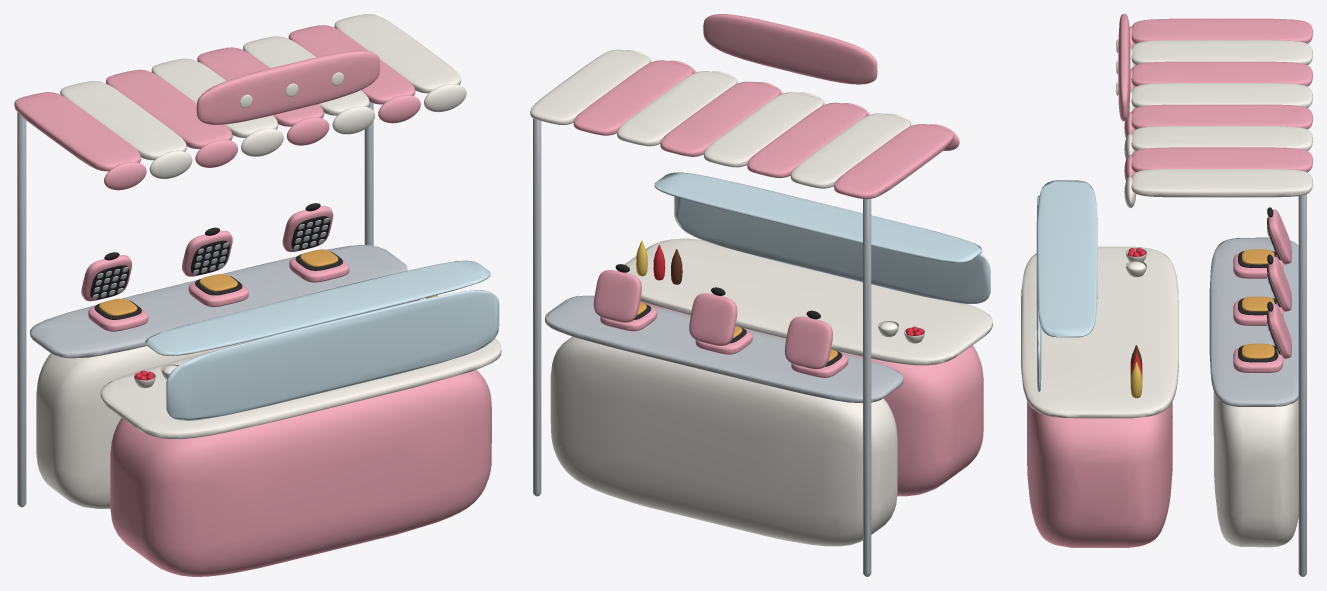
Rendered from vitrina_wafles_3.glb.
The picture shows the model from 3 angles, left to right: view 1: azimuth 30°, elevation 25°; view 2: azimuth 150°, elevation 25°; view 3: azimuth 270°, elevation 25°; orthographic projection. The views are drawn at different scales.
Visible parts, largest first — view 1: mostrador.002, vidrio frente.002, meson, tapa meson, vidrio techo.001, tapa.009, letrero.013, franja toldo.008, franja toldo.015, franja toldo.009, franja toldo.010, poste toldo (+20 smaller); view 2: meson, tapa.009, vidrio frente.002, tapa meson, mostrador.002, vidrio techo.001, letrero.013, tapa wafflera.003 (×3), franja toldo.008, franja toldo.015, franja toldo.009, franja toldo.013 (+6 smaller); view 3: tapa.009, mostrador.002, meson, tapa meson, vidrio techo.001, franja toldo.015, franja toldo.008, franja toldo.012, franja toldo.010, franja toldo.014, franja toldo.013, franja toldo.009 (+11 smaller).
Boxes of the visible parts, x1,y1,x2,y2 form: mostrador.002: [110, 370, 491, 576]; vidrio frente.002: [166, 290, 499, 420]; meson: [36, 336, 267, 508]; tapa meson: [30, 245, 407, 358]; vidrio techo.001: [145, 260, 490, 355]; tapa.009: [100, 338, 501, 439]; letrero.013: [196, 50, 379, 124]; franja toldo.008: [14, 92, 140, 171]; franja toldo.015: [334, 14, 460, 93]; franja toldo.009: [60, 81, 186, 160]; franja toldo.010: [106, 69, 232, 148]; poste toldo: [17, 112, 26, 507]; meson: [550, 336, 897, 546]; tapa.009: [617, 238, 992, 365]; vidrio frente.002: [674, 196, 990, 304]; tapa meson: [545, 295, 903, 403]; mostrador.002: [640, 301, 983, 496]; vidrio techo.001: [654, 172, 982, 262]; letrero.013: [703, 14, 877, 84]; tapa wafflera.003 (×3): [593, 270, 832, 369]; franja toldo.008: [834, 124, 954, 199]; franja toldo.015: [530, 49, 650, 124]; franja toldo.009: [790, 113, 910, 188]; franja toldo.013: [617, 71, 737, 146]; tapa.009: [1021, 246, 1178, 418]; mostrador.002: [1027, 401, 1172, 547]; meson: [1213, 391, 1298, 547]; tapa meson: [1209, 237, 1298, 406]; vidrio techo.001: [1037, 180, 1097, 337]; franja toldo.015: [1131, 169, 1312, 197]; franja toldo.008: [1131, 18, 1312, 43]; franja toldo.012: [1131, 104, 1312, 129]; franja toldo.010: [1131, 61, 1312, 86]; franja toldo.014: [1131, 147, 1312, 172]; franja toldo.013: [1131, 126, 1312, 150]; franja toldo.009: [1131, 40, 1312, 64].
Bounding box in the file's own units: 2.02 × 2.44 × 1.44.
